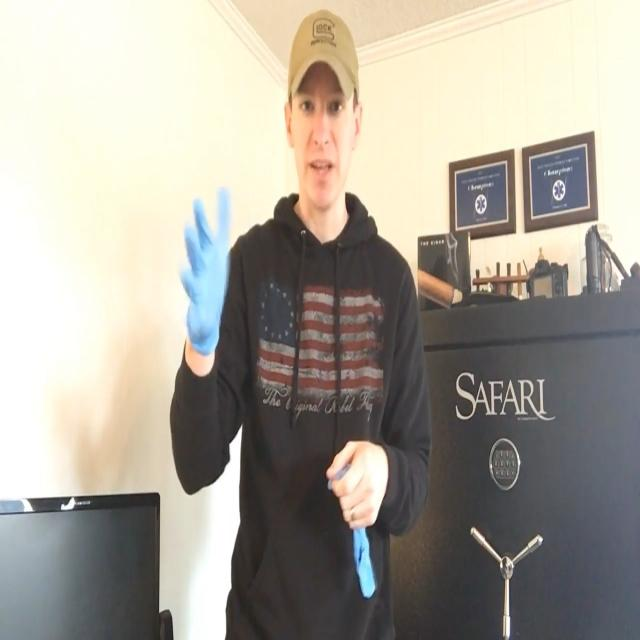Gloves: (169, 176, 236, 368)
